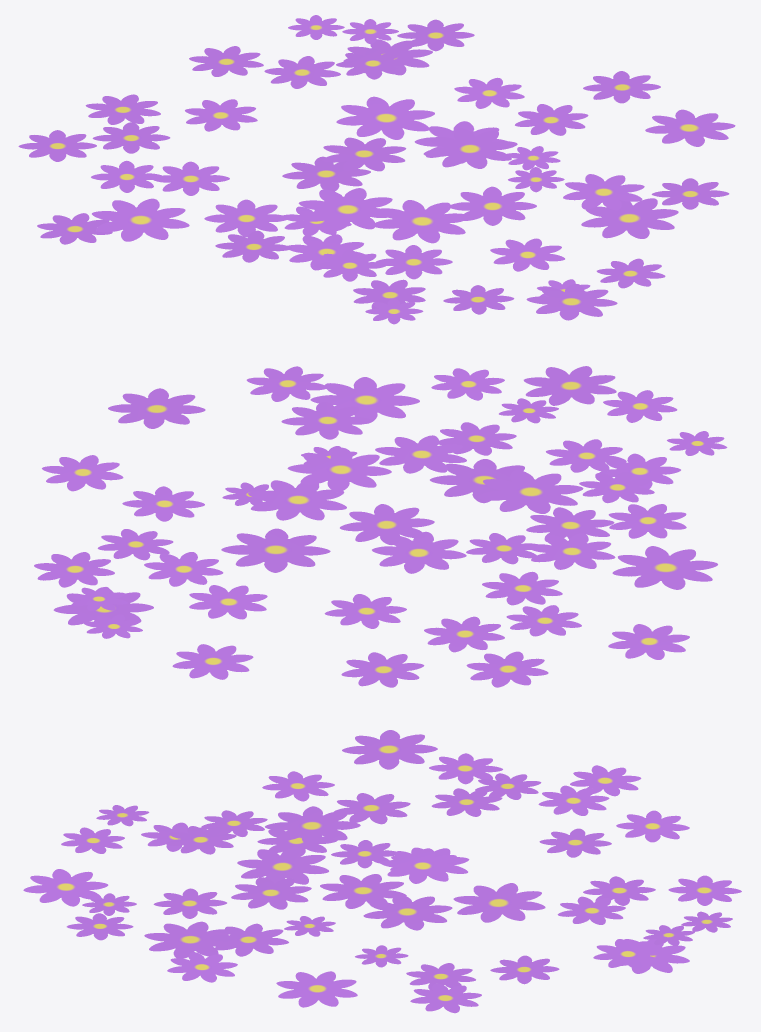
Rendered from Flower_05.fbx.
The picture shows the model from 3 angles, top to bottom: view 1: azimuth 30°, elevation 25°; view 2: azimuth 150°, elevation 25°; view 3: azimuth 270°, elevation 25°; orthographic projection. The views are drawn at different scales.
Parts seen in each view (by area): view 1: Flower_05_LOD0; view 2: Flower_05_LOD0; view 3: Flower_05_LOD0.
Part boxes in pixels (box(x1,y1,x2,y2)): Flower_05_LOD0: box(18, 15, 735, 324); Flower_05_LOD0: box(34, 366, 727, 687); Flower_05_LOD0: box(23, 730, 741, 1013).
Size of what is drawn, in the model's own units: 0.6995 by 0.0416 by 0.749.
